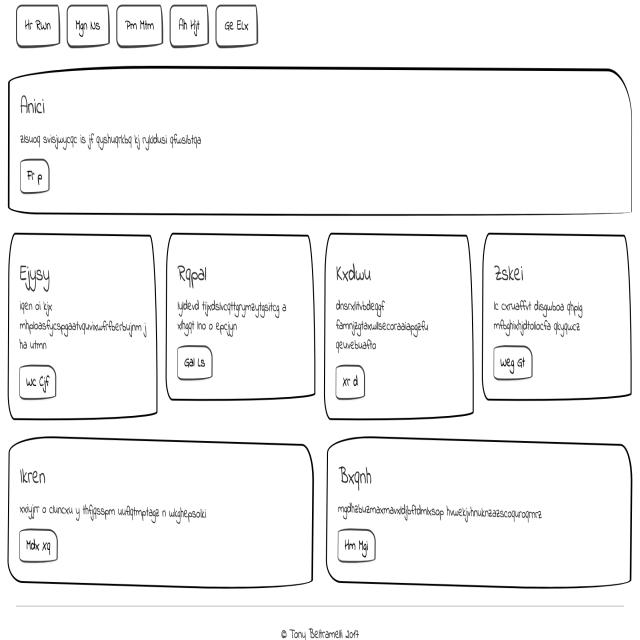Button: (16, 523, 60, 564), (173, 340, 213, 384), (337, 522, 377, 566), (18, 362, 57, 403), (490, 344, 534, 380), (333, 359, 367, 402), (17, 156, 50, 194)
Card: (6, 66, 634, 219), (8, 433, 316, 590), (324, 436, 631, 592), (6, 228, 158, 424), (322, 229, 476, 420), (482, 230, 634, 401), (165, 233, 318, 402)
Footer: (0, 592, 640, 640)
Heading 6: (18, 254, 57, 294), (334, 257, 378, 288), (337, 464, 378, 489), (492, 260, 528, 288), (15, 465, 53, 491), (176, 262, 209, 288), (18, 91, 48, 118)
Navigation Bar: (15, 0, 261, 51)
Paragraph: (335, 496, 565, 531), (15, 297, 150, 352), (335, 297, 449, 359), (18, 494, 223, 526), (20, 125, 226, 155), (491, 294, 605, 340), (177, 297, 291, 338)
